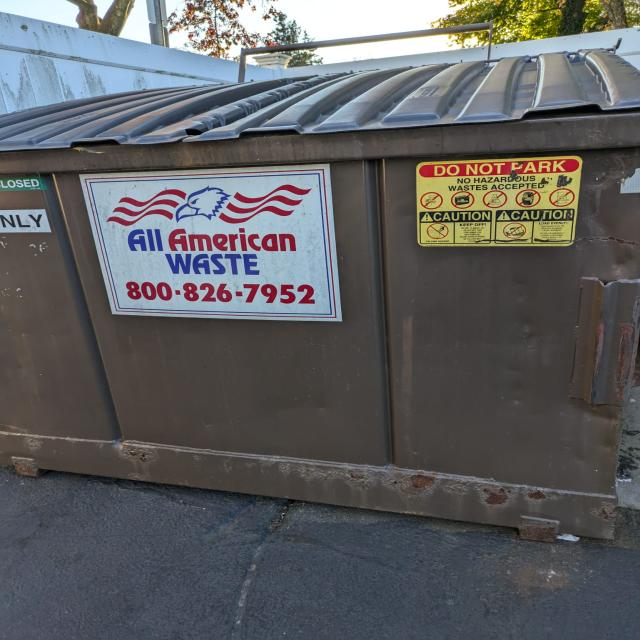Filiform Corrosion: (110, 279, 640, 540)
